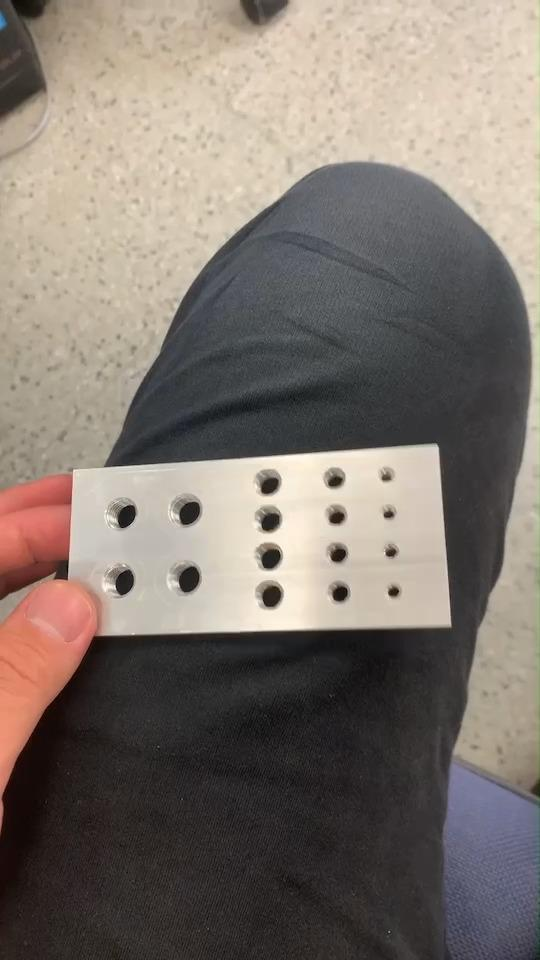hole: (94, 493, 142, 538), (163, 488, 209, 532), (164, 558, 208, 602), (98, 562, 138, 604), (249, 466, 285, 500), (248, 504, 287, 535), (248, 580, 285, 612), (250, 541, 286, 573), (322, 578, 358, 608), (320, 462, 351, 494), (322, 500, 351, 532), (322, 539, 352, 566), (376, 462, 398, 492), (378, 501, 400, 524), (382, 541, 401, 566), (384, 582, 403, 605)
